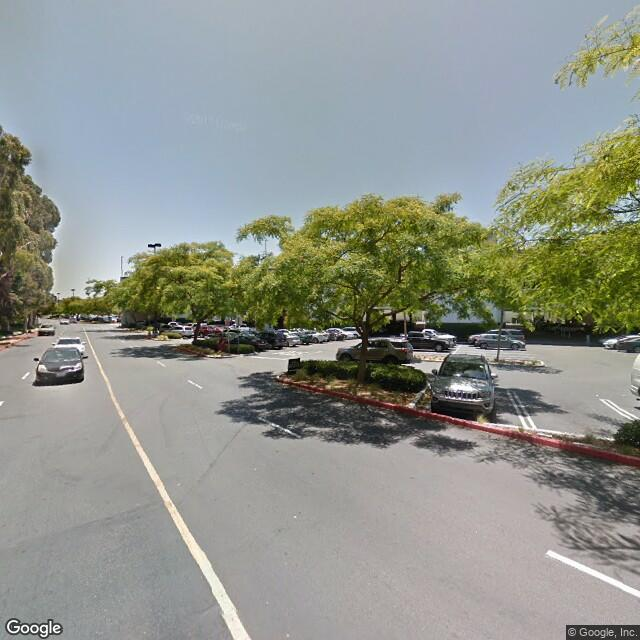litter: (368, 369, 376, 379)
